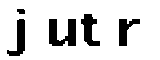j: (4, 5, 30, 59)
r: (117, 14, 142, 51)
t: (80, 12, 102, 52)
u: (43, 15, 78, 49)
